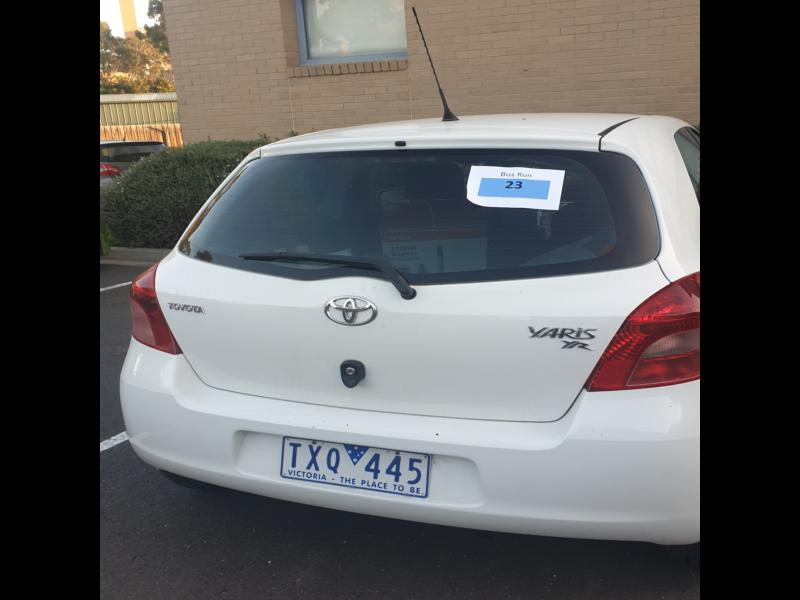BusRun: (478, 176, 549, 201)
PlateNo: (279, 434, 430, 497)
